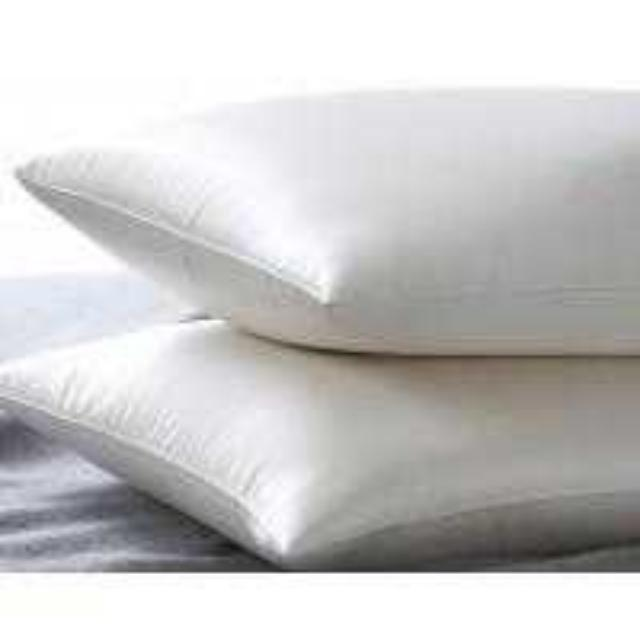pillow: (13, 80, 637, 358), (0, 314, 636, 570)
